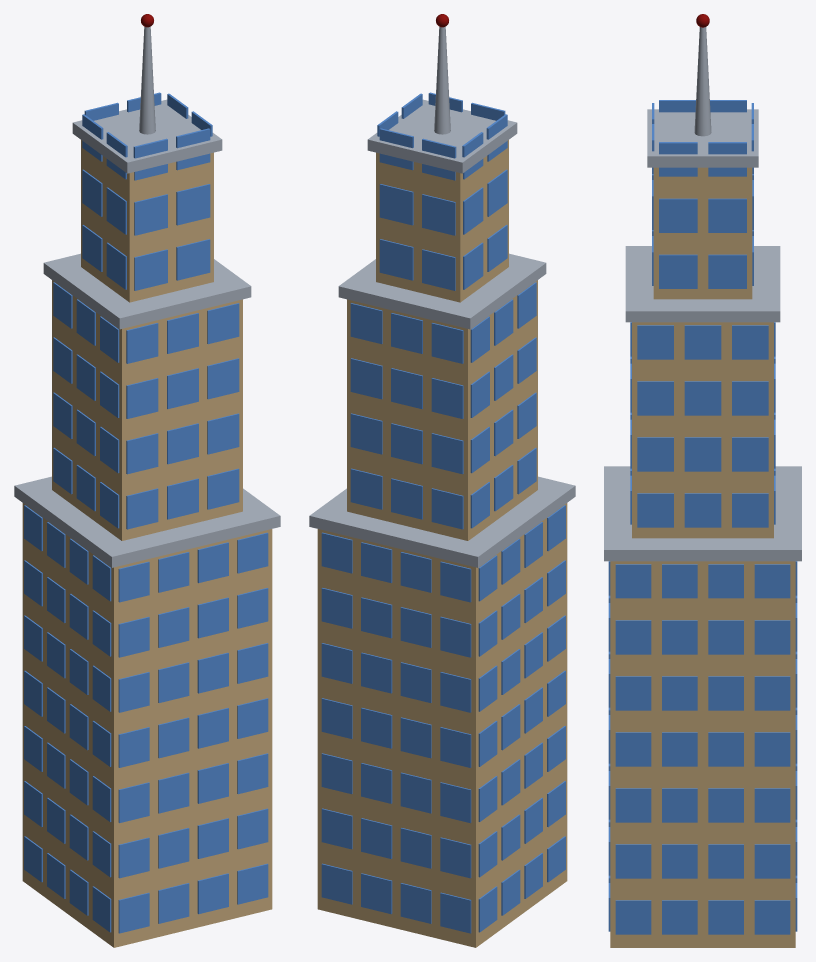
Rendered from tower.obj.
3 views of the same model, side by side, from view 1: azimuth 30°, elevation 25°; view 2: azimuth 150°, elevation 25°; view 3: azimuth 270°, elevation 25° (orthographic).
Visible parts, largest first — view 1: tier_0, tier_1, tier_2, tier_cap_0, tier_cap_1, tier_cap_2, spire, glass_2011, glass_2111, glass_2001, glass_2101, glass_1121 (+85 smaller); view 2: tier_0, tier_1, tier_2, tier_cap_0, tier_cap_1, tier_cap_2, spire, glass_201-1, glass_211-1, glass_200-1, glass_210-1, glass_112-1 (+85 smaller); view 3: tier_0, tier_1, tier_cap_0, tier_2, tier_cap_1, tier_cap_2, spire, glass_s2001, glass_s2011, glass_s2101, glass_s2111, glass_s1011 (+43 smaller).
Part boxes in pixels (bbox=[...]): tier_0: bbox=[22, 503, 272, 947]; tier_1: bbox=[52, 280, 242, 540]; tier_2: bbox=[81, 140, 213, 302]; tier_cap_0: bbox=[14, 476, 280, 567]; tier_cap_1: bbox=[43, 253, 251, 329]; tier_cap_2: bbox=[72, 99, 222, 173]; spire: bbox=[139, 26, 155, 134]; glass_2011: bbox=[176, 239, 210, 280]; glass_2111: bbox=[176, 184, 210, 225]; glass_2001: bbox=[134, 249, 167, 290]; glass_2101: bbox=[134, 194, 167, 235]; glass_1121: bbox=[207, 413, 239, 454]; tier_0: bbox=[317, 503, 567, 947]; tier_1: bbox=[347, 280, 537, 540]; tier_2: bbox=[376, 140, 508, 302]; tier_cap_0: bbox=[309, 476, 575, 567]; tier_cap_1: bbox=[338, 253, 546, 329]; tier_cap_2: bbox=[367, 99, 517, 173]; spire: bbox=[434, 26, 450, 134]; glass_201-1: bbox=[379, 239, 413, 280]; glass_211-1: bbox=[379, 184, 413, 225]; glass_200-1: bbox=[422, 249, 455, 290]; glass_210-1: bbox=[422, 194, 455, 235]; glass_112-1: bbox=[350, 413, 382, 454]; tier_0: bbox=[610, 561, 795, 947]; tier_1: bbox=[632, 322, 773, 538]; tier_cap_0: bbox=[604, 466, 801, 561]; tier_2: bbox=[653, 167, 752, 299]; tier_cap_1: bbox=[625, 246, 780, 322]; tier_cap_2: bbox=[647, 109, 758, 167]; spire: bbox=[694, 27, 711, 136]; glass_s2001: bbox=[708, 254, 746, 288]; glass_s2011: bbox=[659, 254, 697, 288]; glass_s2101: bbox=[708, 198, 746, 232]; glass_s2111: bbox=[659, 198, 697, 232]; glass_s1011: bbox=[684, 493, 721, 527].
Size of the model in its own units: 6.4 by 31.92 by 6.4.
